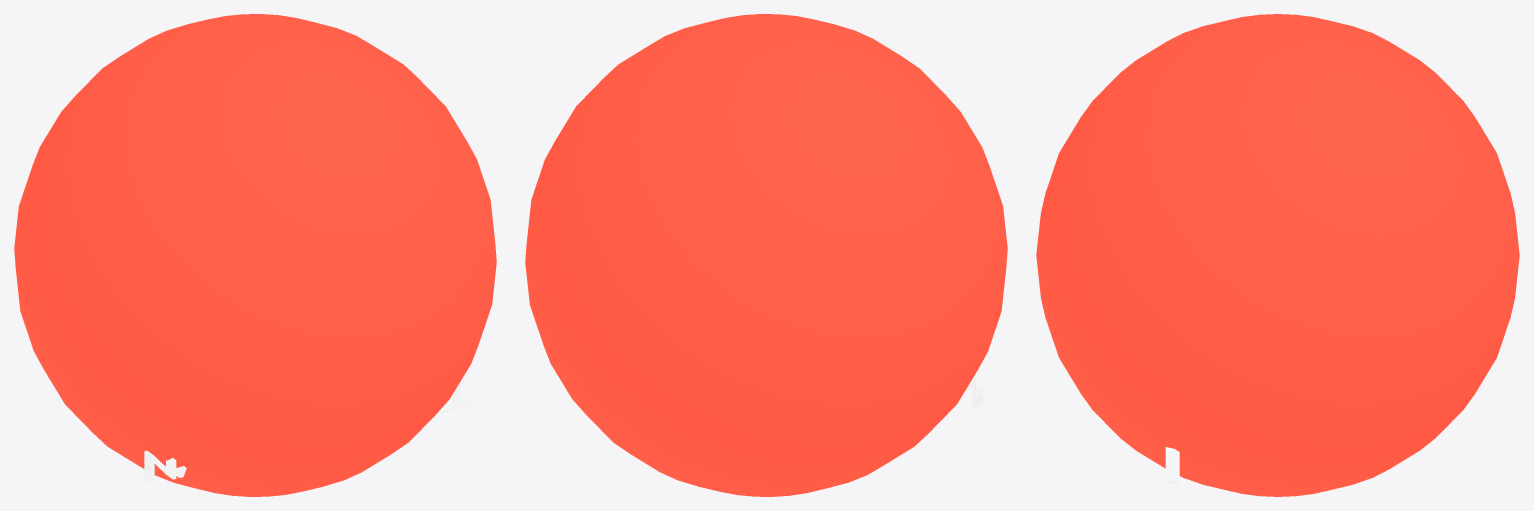
File: energia-nao-renovavel.glb
The picture shows the model from 3 angles, left to right: view 1: azimuth 30°, elevation 25°; view 2: azimuth 150°, elevation 25°; view 3: azimuth 270°, elevation 25°; orthographic projection.
Parts seen in each view (by area): view 1: Sphere.015, Text.018; view 2: Sphere.015; view 3: Sphere.015, Text.018.
Boxes of the visible parts, x1=… form: Sphere.015: x1=14, y1=14, x2=496, y2=496; Text.018: x1=144, y1=381, x2=473, y2=484; Sphere.015: x1=525, y1=14, x2=1007, y2=496; Sphere.015: x1=1036, y1=14, x2=1519, y2=496; Text.018: x1=1165, y1=447, x2=1179, y2=483.
Bounding box in the file's own units: 5.15 × 5.15 × 5.15.
